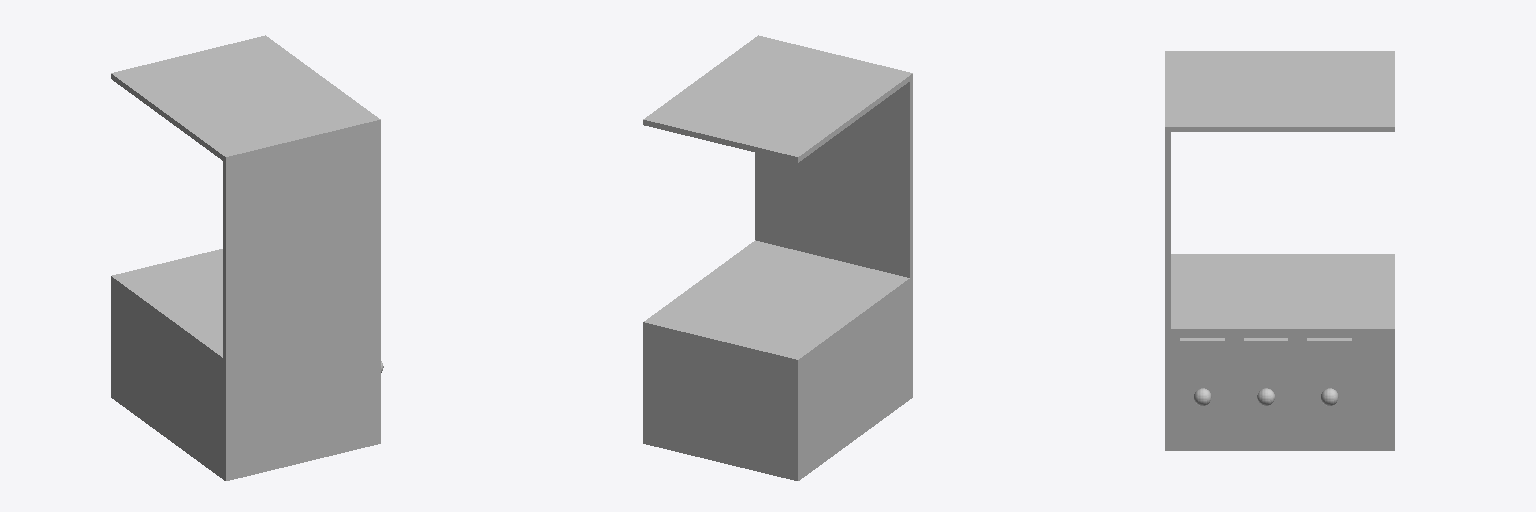
The model's file is tinker_11.obj.
3 renders of one model, left to right at view 1: azimuth 30°, elevation 25°; view 2: azimuth 150°, elevation 25°; view 3: azimuth 270°, elevation 25°, orthographic.
Visible parts, largest first — view 1: obj_0; view 2: obj_0; view 3: obj_0.
Boxes of the visible parts, box(x1,y1,x2,y2) form: obj_0: box(111, 35, 383, 480); obj_0: box(643, 35, 912, 480); obj_0: box(1165, 51, 1394, 450).
Bounding box in the file's own units: 22.65 × 40 × 25.7.